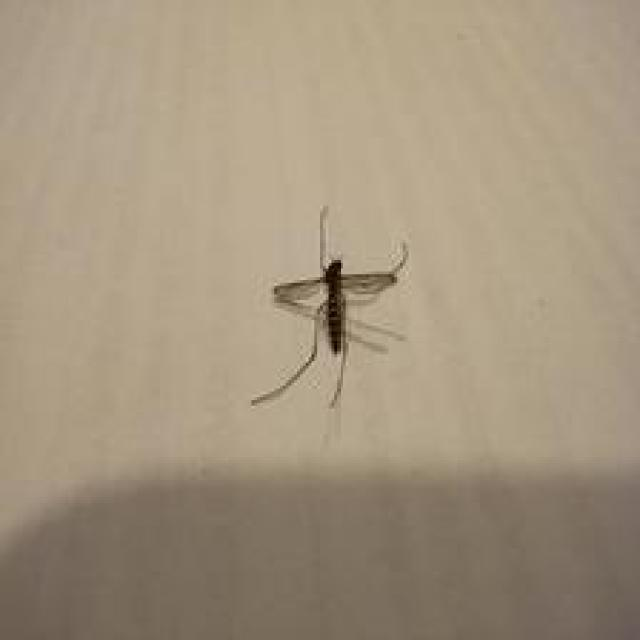Culex: (250, 204, 410, 410)
